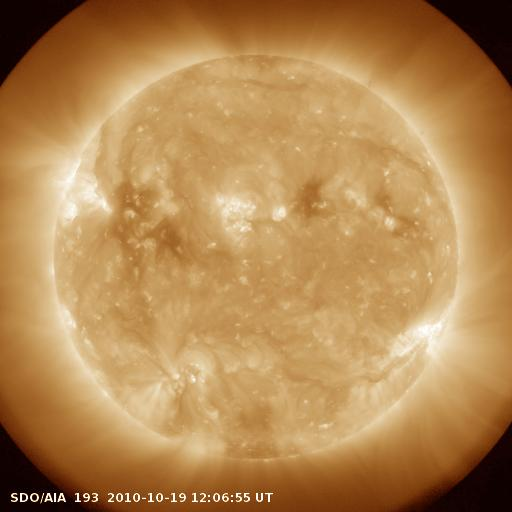coronal_hole: (102, 178, 188, 267), (286, 170, 336, 220)
